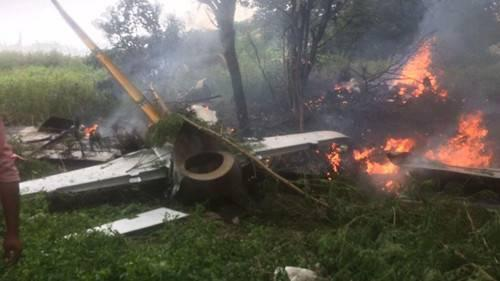fire: (322, 126, 416, 192), (420, 107, 493, 169), (388, 31, 450, 98), (329, 75, 356, 94), (78, 119, 100, 136)
